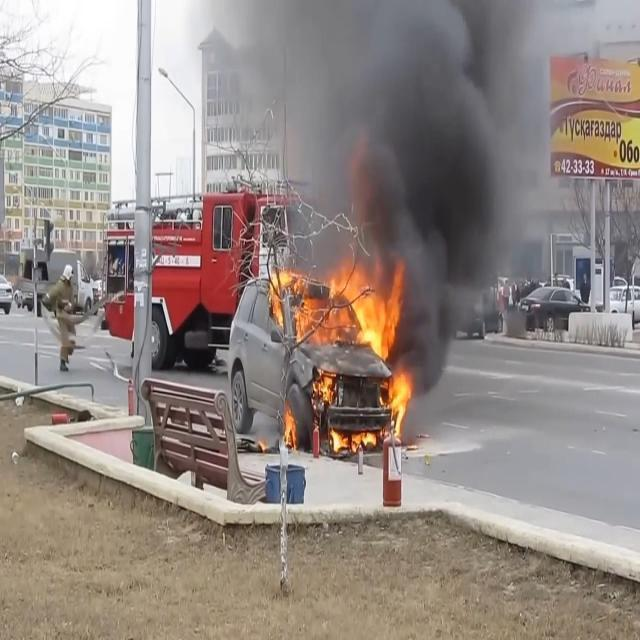fire: (266, 220, 418, 468)
